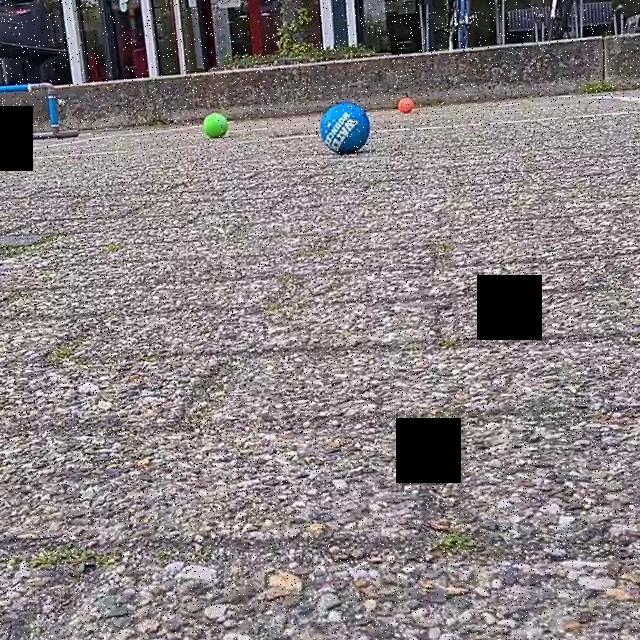ball: (202, 109, 230, 142)
